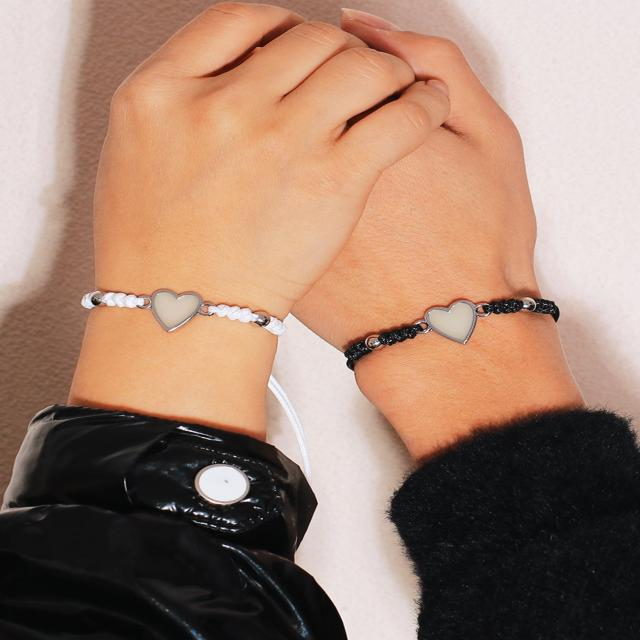bracelet: (312, 257, 633, 391), (48, 226, 310, 389)
